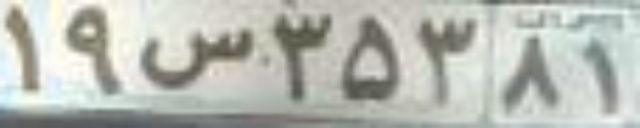1: (2, 5, 41, 91), (579, 36, 621, 113)
3: (414, 17, 480, 104), (272, 11, 330, 102)
5: (337, 15, 404, 100)
8: (503, 36, 563, 112)
9: (68, 5, 119, 93)
sin: (135, 26, 258, 90)
